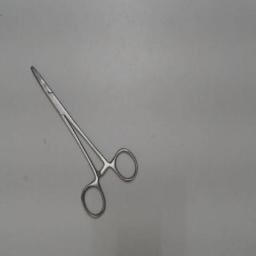Mayo Needle Holder: (24, 58, 140, 226)
